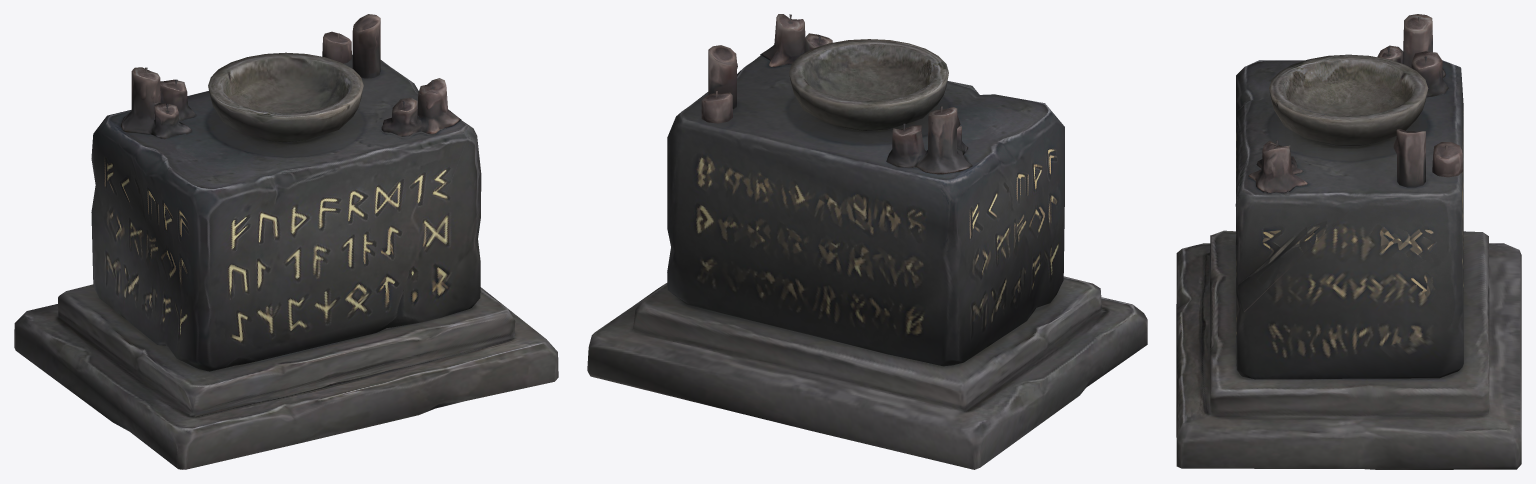
The model's file is altare.glb.
The picture shows the model from 3 angles, left to right: view 1: azimuth 30°, elevation 25°; view 2: azimuth 150°, elevation 25°; view 3: azimuth 270°, elevation 25°; orthographic projection. The views are drawn at different scales.
Parts seen in each view (by area): view 1: altare; view 2: altare; view 3: altare.
Part boxes in pixels (x1=…): altare: x1=14, y1=14, x2=558, y2=469; altare: x1=587, y1=14, x2=1147, y2=469; altare: x1=1176, y1=14, x2=1521, y2=469.
Size of the model in its own units: 0.9995 by 0.7495 by 0.7661.
Materials: 1 (1 with a texture image).
